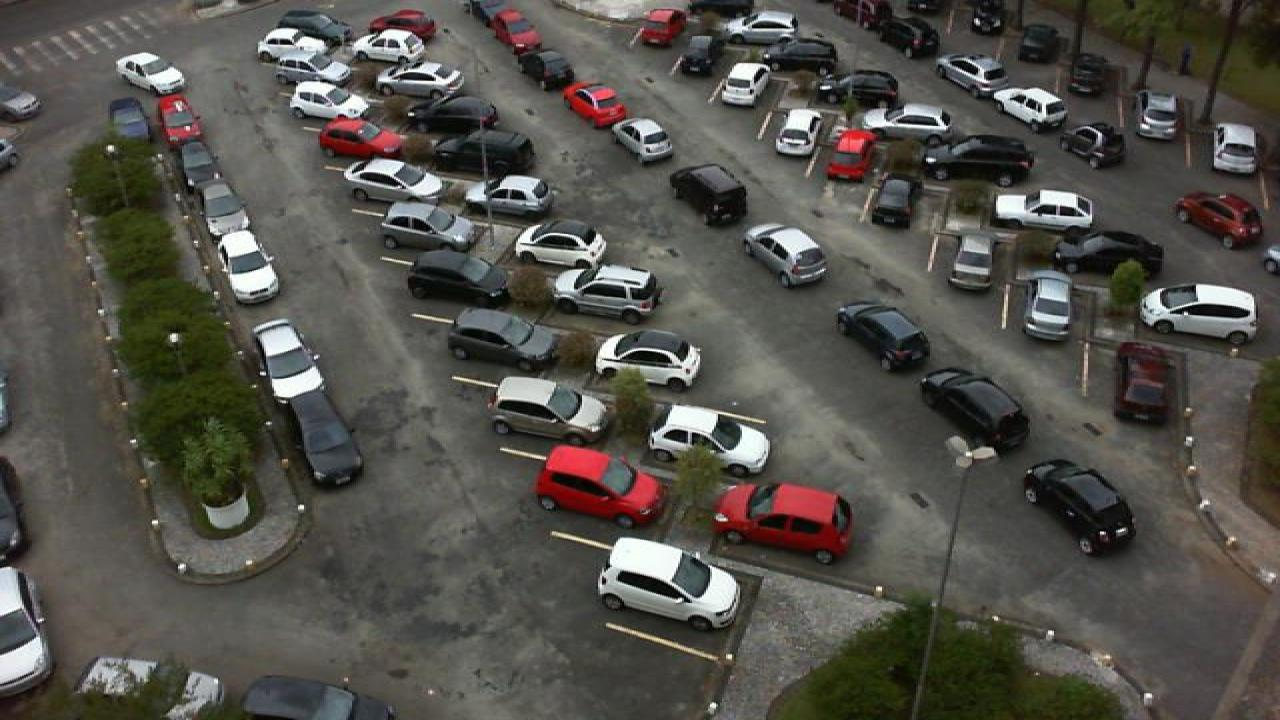Car: (594, 536, 746, 634), (712, 480, 858, 566), (534, 442, 666, 531), (1022, 459, 1138, 557), (918, 366, 1032, 456), (646, 401, 772, 478), (486, 375, 608, 450), (284, 392, 366, 488), (444, 304, 558, 372), (1140, 282, 1260, 346), (832, 300, 936, 373), (0, 567, 54, 700), (592, 330, 702, 391), (250, 318, 324, 400), (554, 264, 664, 318), (1058, 226, 1170, 279), (742, 223, 830, 290), (406, 249, 508, 306), (922, 135, 1036, 185), (1110, 340, 1174, 428), (514, 218, 608, 277), (1176, 189, 1266, 250), (342, 155, 448, 206), (670, 162, 752, 227), (378, 200, 478, 252), (434, 128, 540, 176), (216, 228, 282, 305), (990, 188, 1096, 234), (1016, 270, 1078, 343), (314, 114, 408, 158), (406, 93, 504, 135), (368, 59, 466, 100), (988, 84, 1070, 132), (480, 173, 560, 222), (862, 102, 954, 144), (948, 226, 1002, 293), (1058, 121, 1130, 170), (934, 53, 1014, 97), (286, 79, 368, 120), (258, 47, 352, 82), (196, 177, 252, 234), (116, 50, 188, 94), (608, 116, 674, 164), (866, 174, 922, 230), (562, 81, 630, 127), (872, 14, 940, 60), (760, 37, 842, 74), (352, 29, 430, 65), (1210, 120, 1260, 176), (174, 139, 226, 192), (156, 93, 206, 148), (822, 128, 872, 182), (714, 62, 772, 108), (1132, 89, 1180, 142), (772, 108, 824, 156), (522, 47, 578, 90), (726, 9, 798, 42), (276, 8, 350, 40), (108, 97, 156, 145), (256, 27, 320, 62), (1064, 53, 1112, 99), (672, 32, 720, 76), (368, 8, 438, 37), (1016, 22, 1062, 66), (636, 7, 684, 47), (498, 25, 544, 60), (480, 8, 526, 38)
